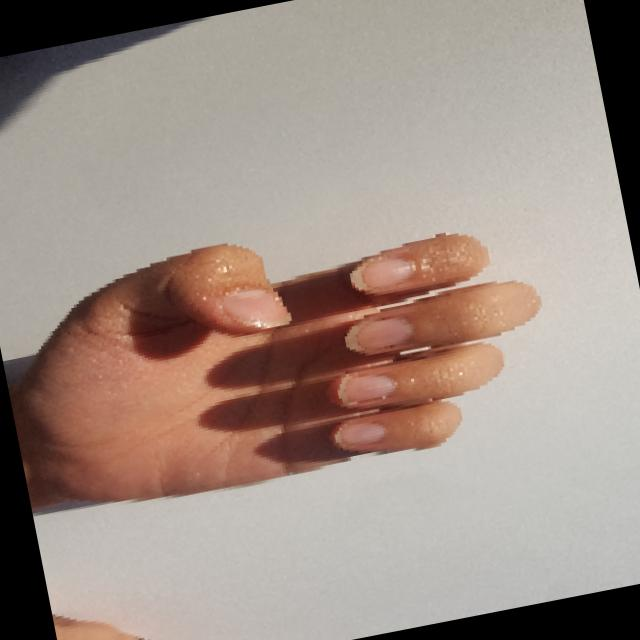Nail: (221, 287, 289, 328), (350, 256, 414, 292), (344, 318, 411, 350), (337, 374, 395, 404), (334, 421, 385, 447)
